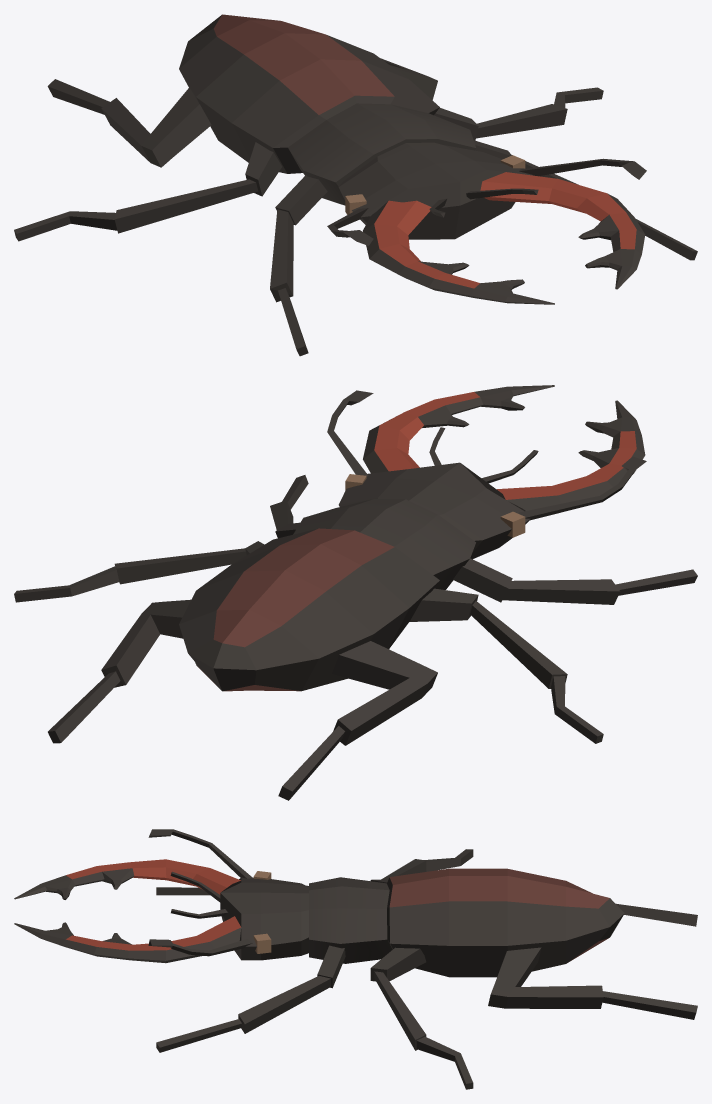
The model's file is beetle.glb.
3 views of the same model, one above another, from view 1: azimuth 30°, elevation 25°; view 2: azimuth 150°, elevation 25°; view 3: azimuth 270°, elevation 25° (orthographic). The views are drawn at different scales.
Visible parts, largest first — view 1: Geo_Beetle; view 2: Geo_Beetle; view 3: Geo_Beetle.
Part boxes in pixels (x1=…): Geo_Beetle: x1=14, y1=14, x2=697, y2=356; Geo_Beetle: x1=14, y1=385, x2=697, y2=800; Geo_Beetle: x1=14, y1=829, x2=697, y2=1089.
Size of the model in its own units: 87.42 by 17.05 by 108.
Materials: 1 (1 with a texture image).
